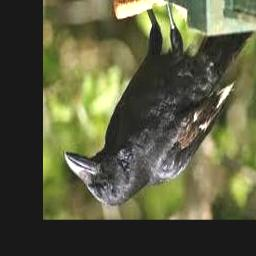Crow: (64, 0, 256, 207)
